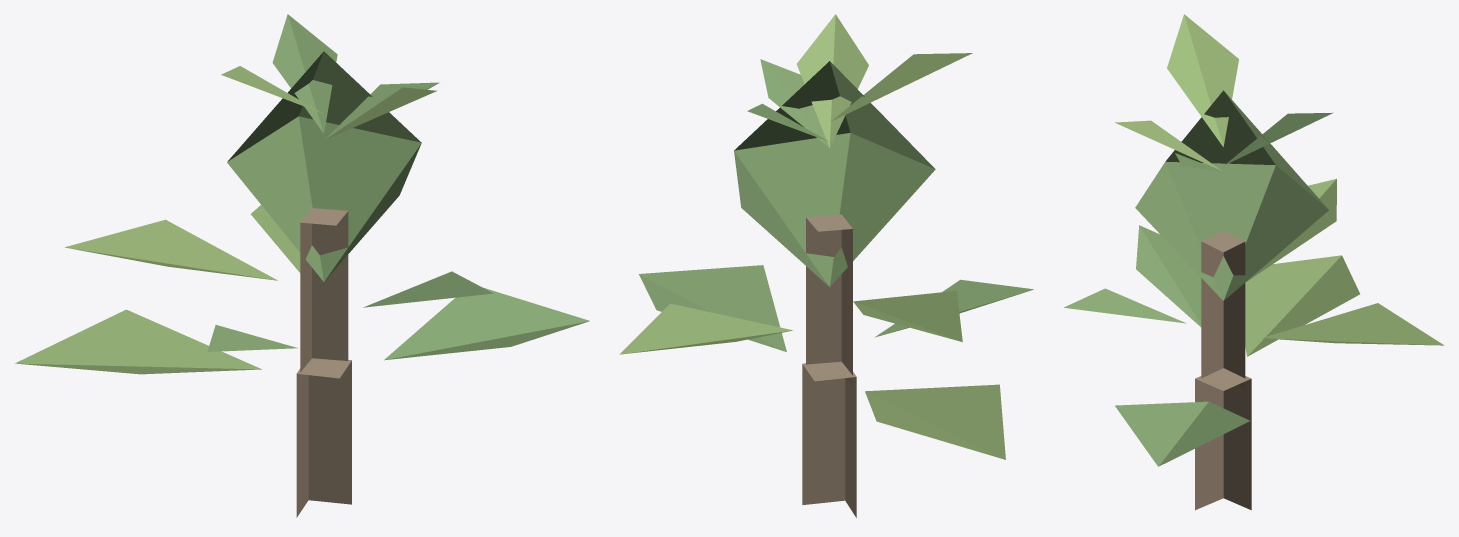
The model's file is shu.yinxing@seedling__spring.glb.
The picture shows the model from 3 angles, left to right: view 1: azimuth 30°, elevation 25°; view 2: azimuth 150°, elevation 25°; view 3: azimuth 270°, elevation 25°; orthographic projection. The views are drawn at different scales.
Parts seen in each view (by area): view 1: shu.yinxing@seedling__spring; view 2: shu.yinxing@seedling__spring; view 3: shu.yinxing@seedling__spring.
Part boxes in pixels (x1=…): shu.yinxing@seedling__spring: x1=15, y1=14, x2=589, y2=517; shu.yinxing@seedling__spring: x1=619, y1=14, x2=1033, y2=517; shu.yinxing@seedling__spring: x1=1064, y1=14, x2=1444, y2=510.
Size of the model in its own units: 1.45 by 1.41 by 1.11.
